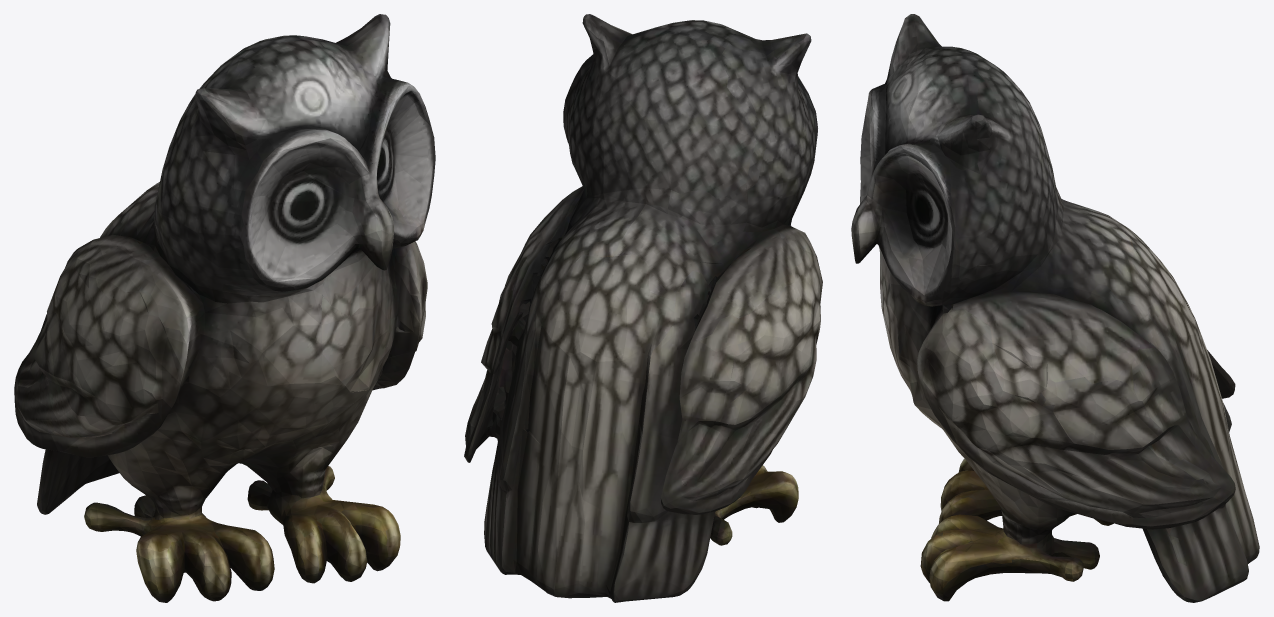
Rendered from owl.glb.
The picture shows the model from 3 angles, left to right: view 1: azimuth 30°, elevation 25°; view 2: azimuth 150°, elevation 25°; view 3: azimuth 270°, elevation 25°; orthographic projection. The views are drawn at different scales.
Visible parts, largest first — view 1: world; view 2: world; view 3: world.
Boxes of the visible parts, bbox=[...] form: world: bbox=[14, 14, 435, 602]; world: bbox=[464, 14, 822, 602]; world: bbox=[851, 14, 1259, 602].
Size of the model in its own units: 0.6318 by 0.9981 by 0.7363.
1 material, 1 textured.
